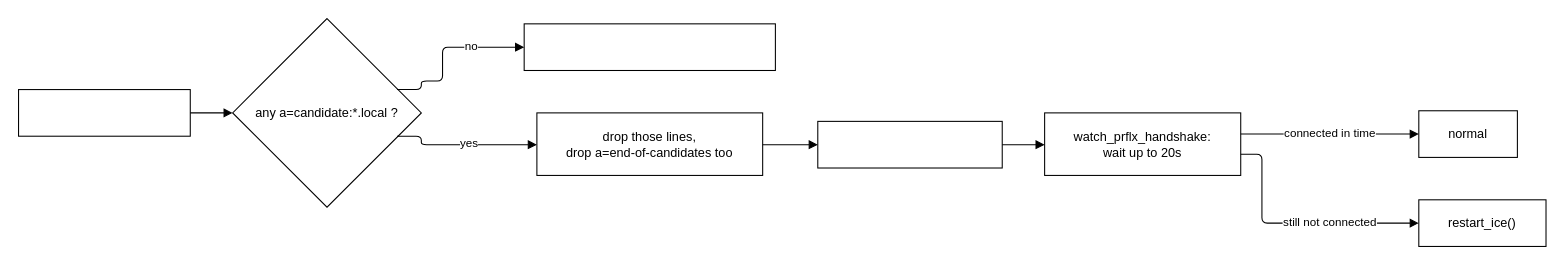
This 1565x265 diagram has some shape labels left out. The centre of each missing label's shape, as x and y in pixels:
"answer SDP arrives" belongs at pixel 103 112.
"setRemoteDescription" belongs at pixel 909 144.
"setRemoteDescription unchanged" belongs at pixel 649 46.
